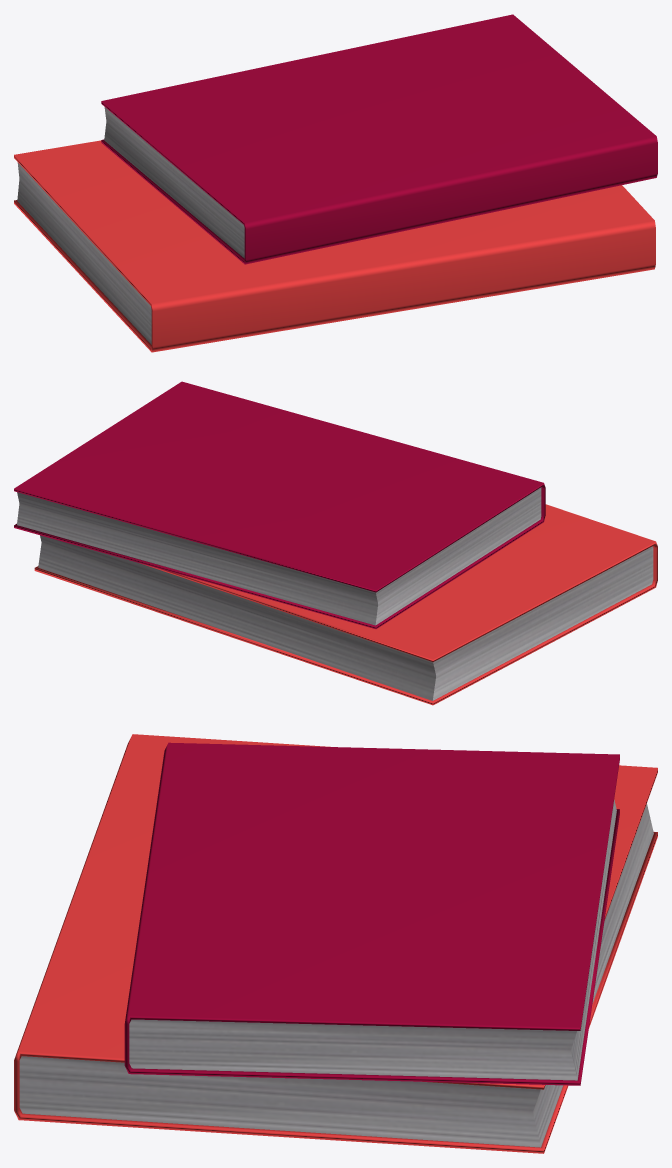
The model's file is Books_4.fbx.
3 views of the same model, one above another, from view 1: azimuth 30°, elevation 25°; view 2: azimuth 150°, elevation 25°; view 3: azimuth 270°, elevation 25° (orthographic). The views are drawn at different scales.
Parts seen in each view (by area): view 1: Books_4; view 2: Books_4; view 3: Books_4.
Boxes of the visible parts, x1,y1,x2,y2 form: Books_4: (14, 14, 657, 352); Books_4: (14, 381, 657, 705); Books_4: (14, 734, 657, 1153).
Bounding box in the file's own units: 2943 × 510 × 2241.
